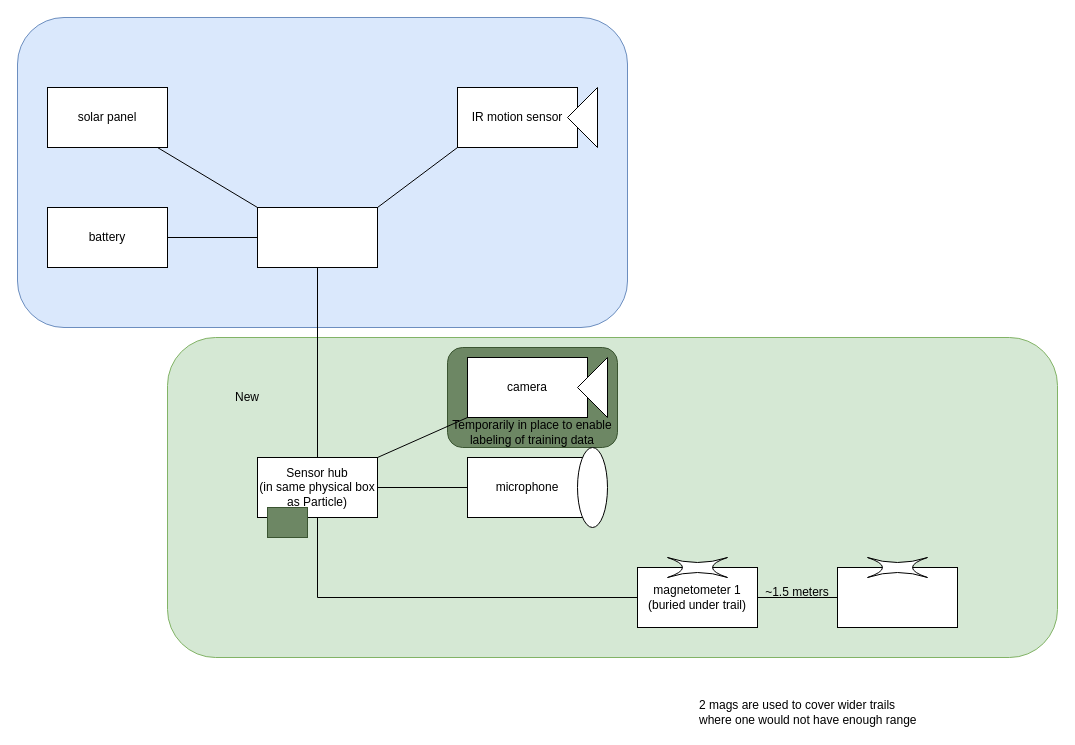
This 1075x745 diagram has some shape labels left out. The shapes that lost their labels are listed below. From the top down, each one's box as (x1, y1, x2, y2) in pixels, then its label:
(16, 16, 628, 328): Existing
(256, 206, 378, 268): Particle and carrier board
(266, 506, 308, 538): SD Card
(836, 566, 958, 628): magnetometer 2 (buried under trail)
